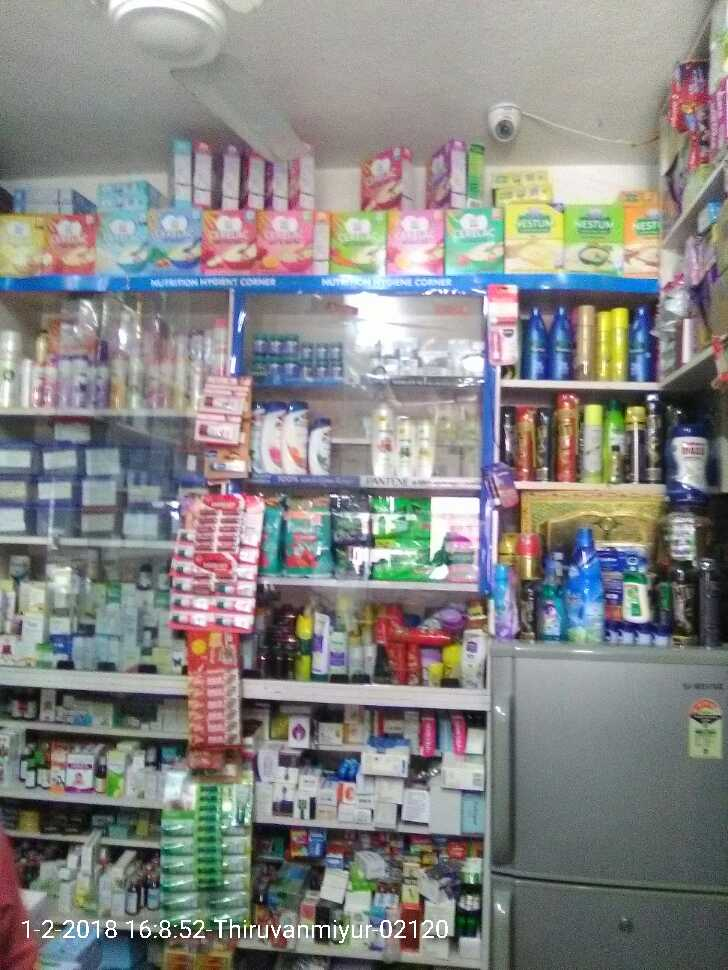vicks: (254, 331, 345, 383)
